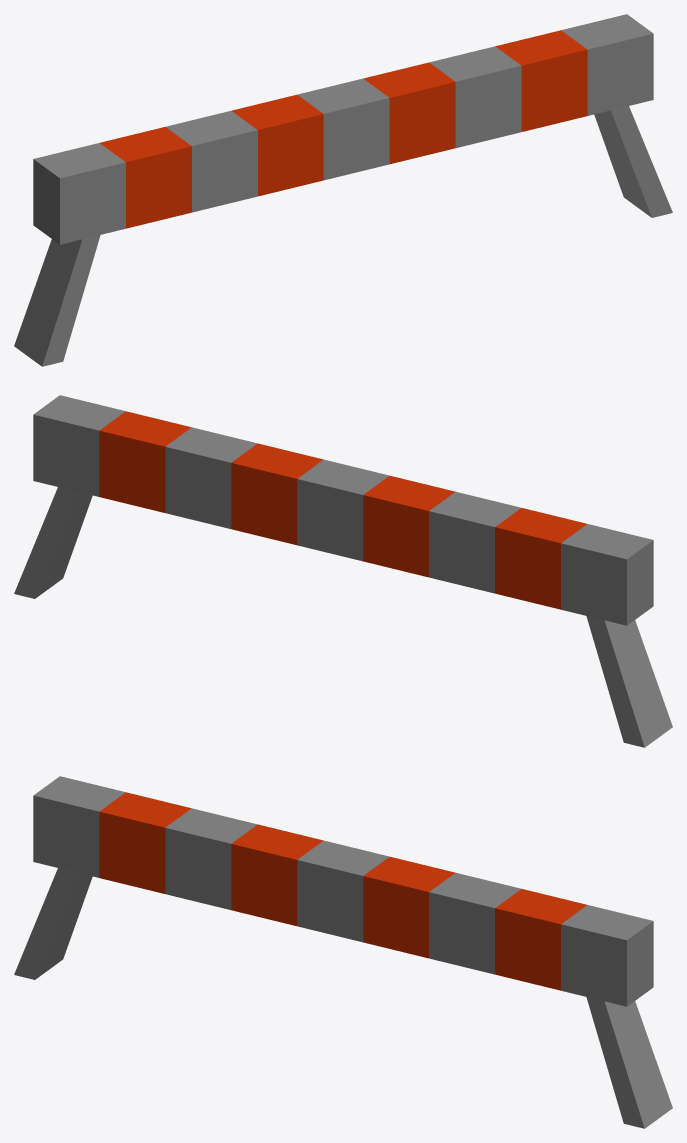
File: low barrier.fbx
3 renders of one model, top to bottom at view 1: azimuth 30°, elevation 25°; view 2: azimuth 150°, elevation 25°; view 3: azimuth 330°, elevation 25°, orthographic.
Visible parts, largest first — view 1: short road barrier; view 2: short road barrier; view 3: short road barrier.
Boxes of the visible parts, left/top/right/bottom form: short road barrier: left=14, top=14, right=672, bottom=366; short road barrier: left=14, top=395, right=672, bottom=747; short road barrier: left=14, top=776, right=672, bottom=1128.
Size of the model in its own units: 184 by 51.01 by 14.24.
